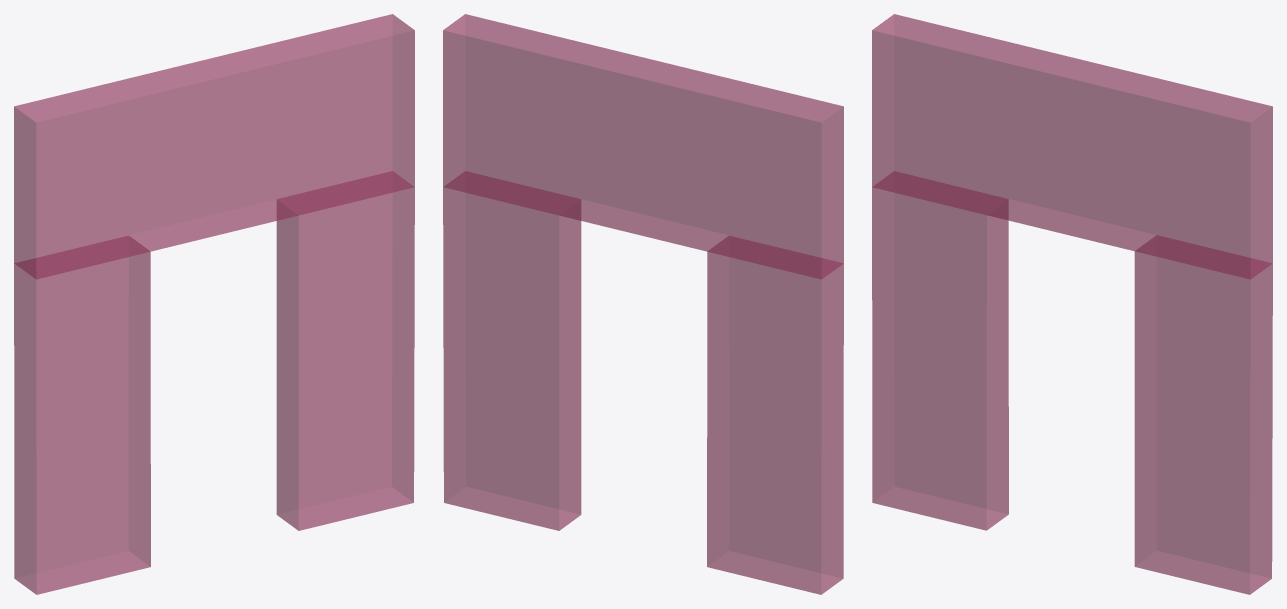
File: SM_Bld_Base_Wall_Door_01_Collision.fbx
3 views of the same model, side by side, from view 1: azimuth 30°, elevation 25°; view 2: azimuth 150°, elevation 25°; view 3: azimuth 330°, elevation 25° (orthographic).
Parts seen in each view (by area): view 1: SM_Bld_Base_Wall_Door_01_Collision; view 2: SM_Bld_Base_Wall_Door_01_Collision; view 3: SM_Bld_Base_Wall_Door_01_Collision.
Part boxes in pixels (x1,y1,x2,y2): SM_Bld_Base_Wall_Door_01_Collision: [14, 14, 414, 594]; SM_Bld_Base_Wall_Door_01_Collision: [443, 14, 843, 594]; SM_Bld_Base_Wall_Door_01_Collision: [872, 14, 1272, 594].
Bounding box in the file's own units: 253 × 302 × 25.72.
